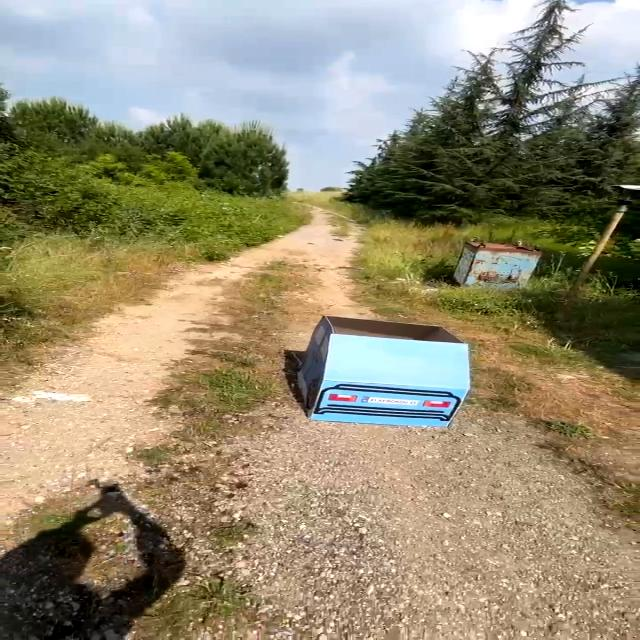blue_car: (277, 301, 492, 438)
